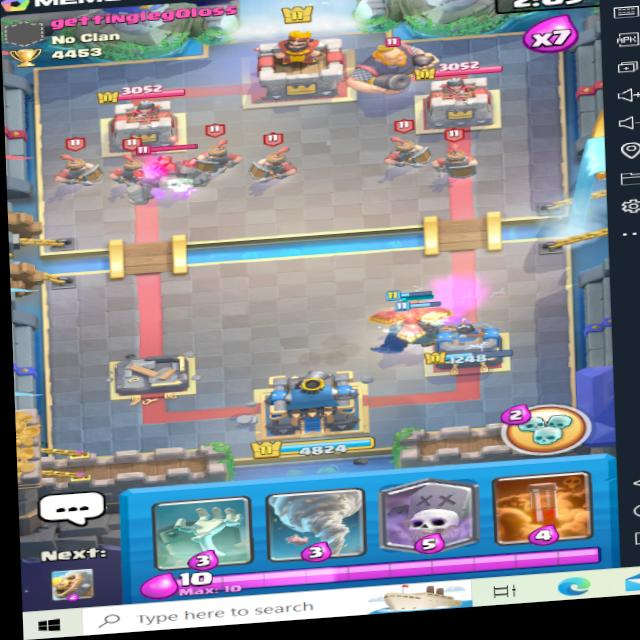golem: (120, 135, 223, 203)
royal-giant: (339, 32, 445, 94)
royal-recruits: (244, 129, 308, 189), (376, 114, 436, 177), (436, 121, 491, 186), (188, 122, 246, 183), (57, 135, 105, 196), (103, 142, 156, 191)
